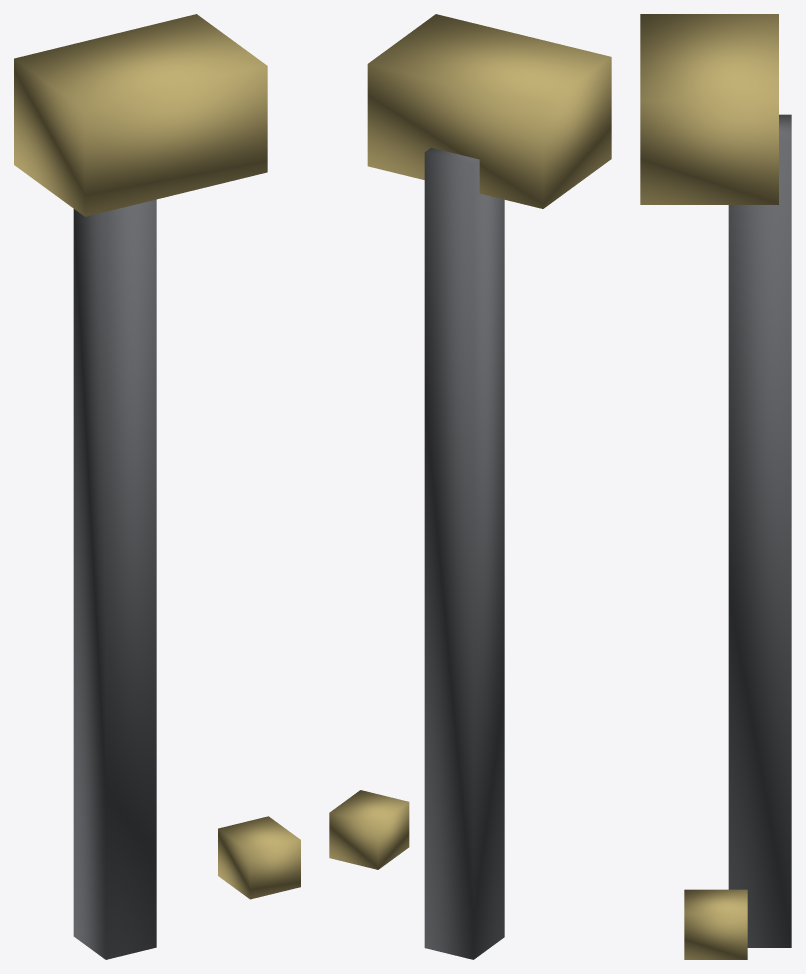
File: dock_light_05.glb
3 renders of one model, left to right at view 1: azimuth 30°, elevation 25°; view 2: azimuth 150°, elevation 25°; view 3: azimuth 270°, elevation 25°, orthographic. The views are drawn at different scales.
Parts seen in each view (by area): view 1: world; view 2: world; view 3: world.
Boxes of the visible parts, bbox=[...] form: world: bbox=[14, 14, 300, 959]; world: bbox=[329, 14, 611, 959]; world: bbox=[640, 14, 791, 959].
Bounding box in the file's own units: 0.4136 × 1.49 × 0.2328.
